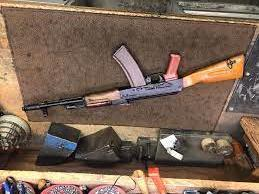larga: (22, 44, 246, 118)
